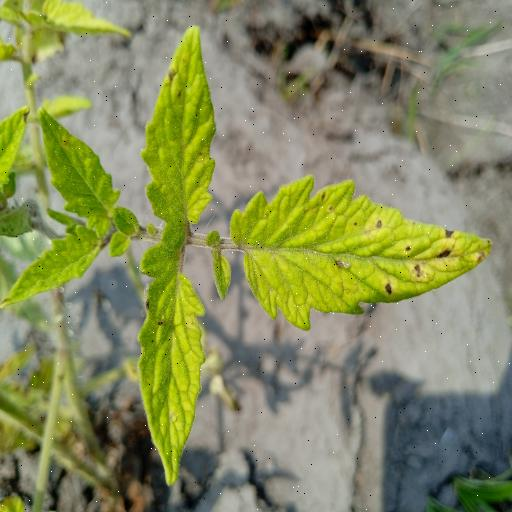Tomato_Brown_Spots: (233, 162, 502, 346), (141, 12, 225, 243), (136, 263, 216, 501)
